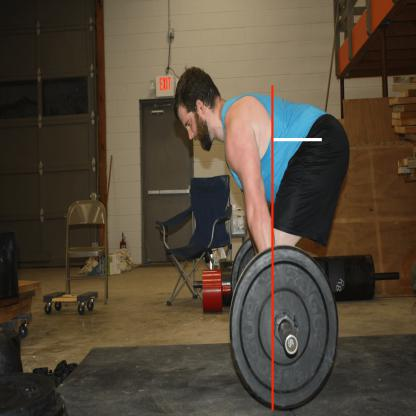Barbell: (226, 241, 340, 412)
